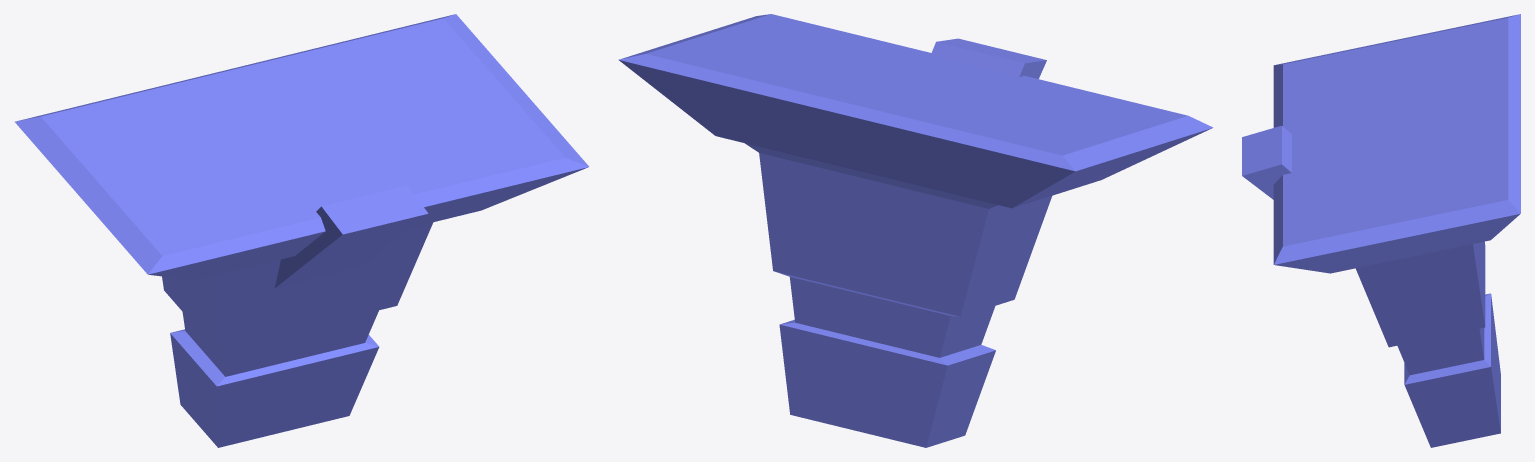
File: pillar_torch_01_SM.fbx
3 renders of one model, left to right at view 1: azimuth 30°, elevation 25°; view 2: azimuth 150°, elevation 25°; view 3: azimuth 270°, elevation 25°, orthographic. The views are drawn at different scales.
Parts seen in each view (by area): view 1: pillar_torch_01_SM; view 2: pillar_torch_01_SM; view 3: pillar_torch_01_SM.
Part boxes in pixels (box(x1,y1,x2,y2)): pillar_torch_01_SM: box(15, 14, 588, 447); pillar_torch_01_SM: box(618, 14, 1213, 447); pillar_torch_01_SM: box(1242, 14, 1520, 447).
Size of the model in its own units: 33.23 by 24.01 by 19.6.
